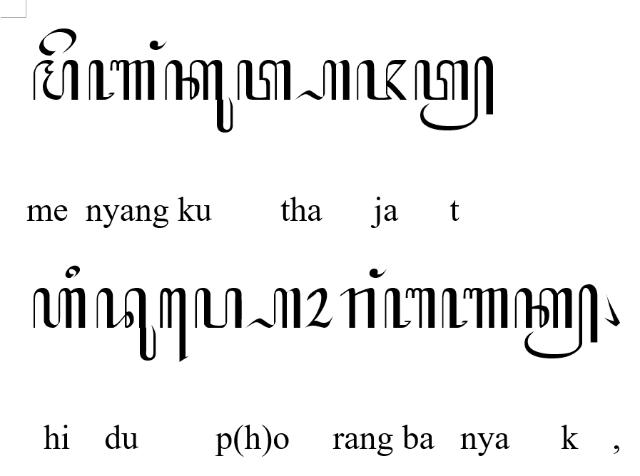-k: (514, 283, 598, 359)
-t: (414, 56, 494, 132)
_h: (244, 288, 302, 330), (294, 59, 350, 101)
b: (383, 288, 435, 328)
du: (96, 288, 156, 360)
e: (39, 28, 77, 56)
e1: (160, 287, 188, 363)
h: (34, 288, 86, 328)
i: (66, 264, 80, 280)
j: (357, 60, 408, 101)
kom: (603, 293, 621, 327)
ku: (164, 60, 234, 134)
m: (34, 60, 78, 101)
ng: (149, 40, 167, 50), (369, 268, 386, 278)
ny1: (441, 287, 509, 330), (88, 59, 156, 101)
o: (304, 288, 334, 328)
p: (194, 287, 243, 329)
r: (340, 287, 376, 329)
t: (237, 60, 291, 101)
